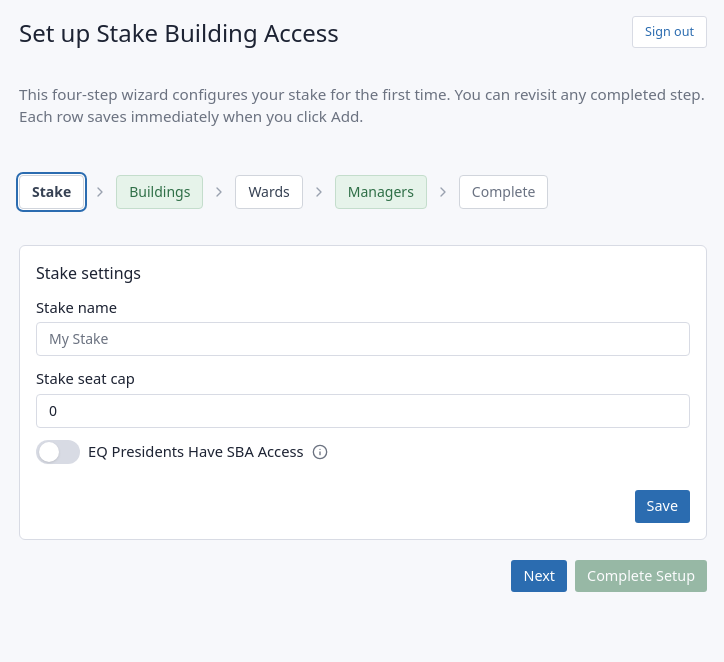
Test: <BootstrapWizardPage /> › warns under the ward-name field as soon as the typed name reads as a branch
This screenshot has width=724, height=662.
Click the tab with test id "wizard-step-tab-3" at coordinates (269, 192), box x1=235 y1=175 x2=303 y2=209
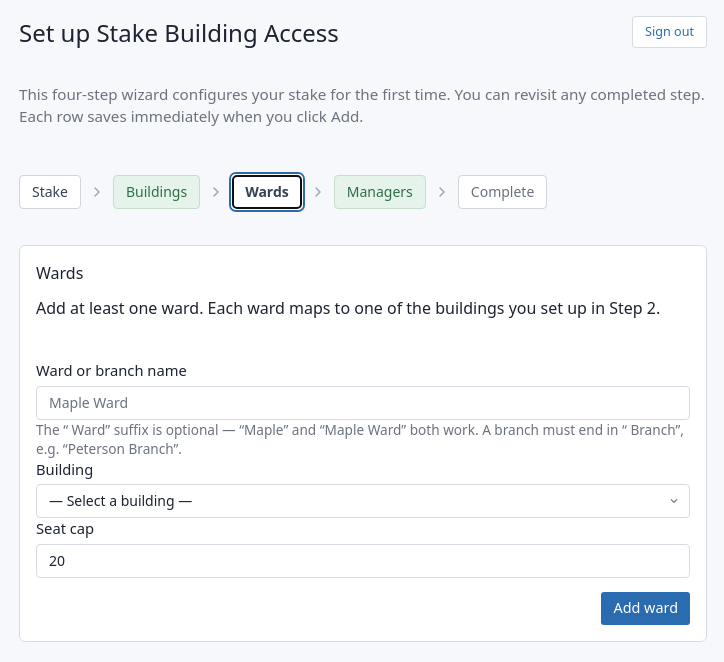
Type "Olive Branch" into the field labelled "Ward or branch name" at coordinates (363, 403), box x1=36 y1=386 x2=690 y2=420
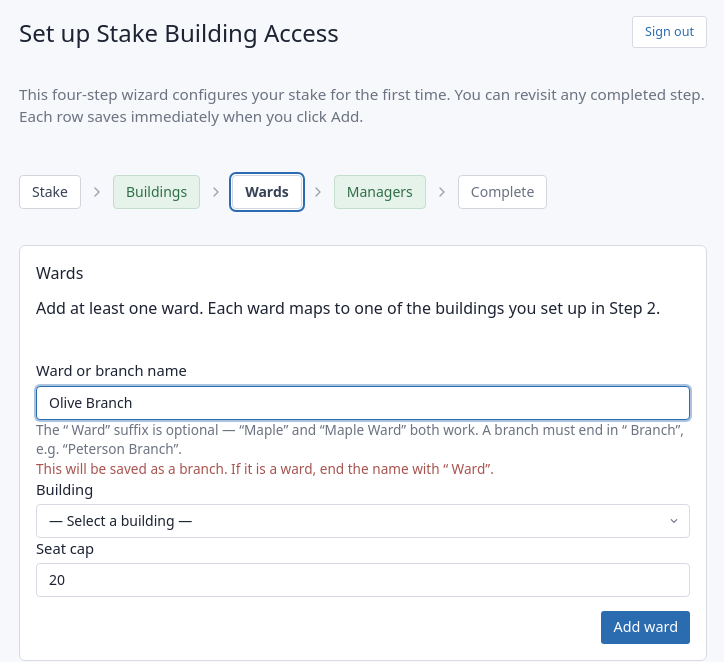
Expected: the button "Add ward" is enabled, x1=602 y1=611 x2=690 y2=644
Expected: the message with test id "bootstrap-ward-branch-warning" reads "This will be saved as a branch. If it is a ward, end the name with “ Ward”.", x1=36 y1=459 x2=494 y2=478
